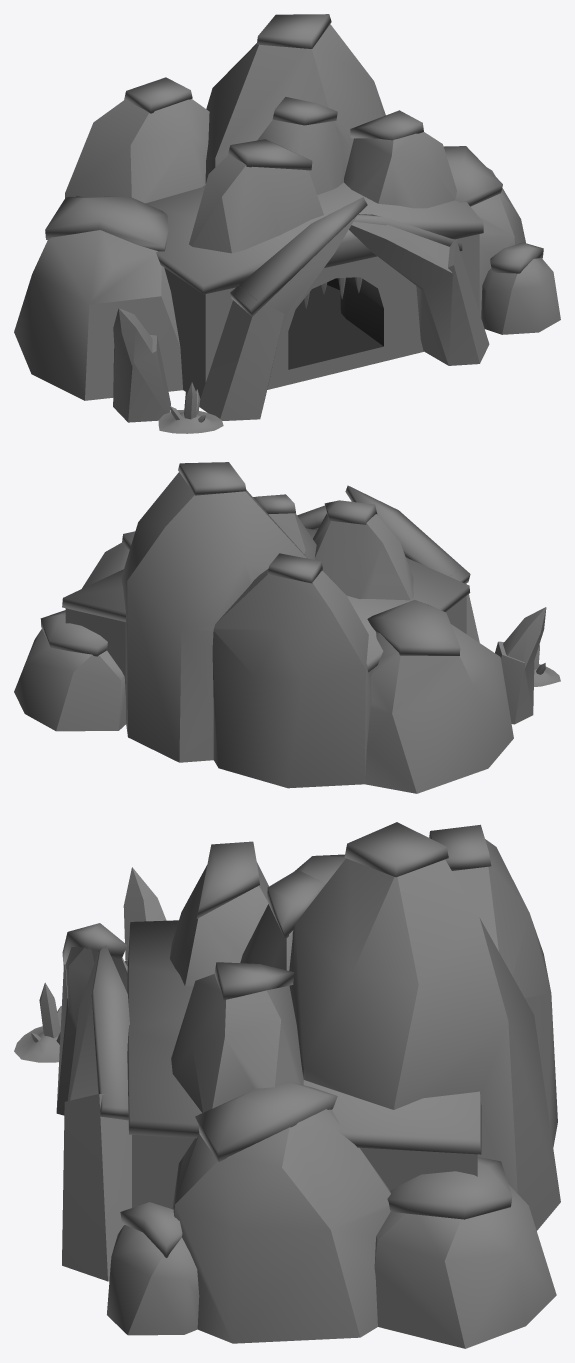
The model's file is cave_snow_A_lavender.fbx.
3 renders of one model, top to bottom at view 1: azimuth 30°, elevation 25°; view 2: azimuth 150°, elevation 25°; view 3: azimuth 270°, elevation 25°, orthographic. The views are drawn at different scales.
Visible parts, largest first — view 1: cave_snow_A_lavender; view 2: cave_snow_A_lavender; view 3: cave_snow_A_lavender.
Part boxes in pixels (x1=…): cave_snow_A_lavender: x1=14, y1=14, x2=560, y2=433; cave_snow_A_lavender: x1=14, y1=462, x2=560, y2=793; cave_snow_A_lavender: x1=14, y1=822, x2=560, y2=1348.
Bounding box in the file's own units: 10.87 × 5.95 × 7.75.
